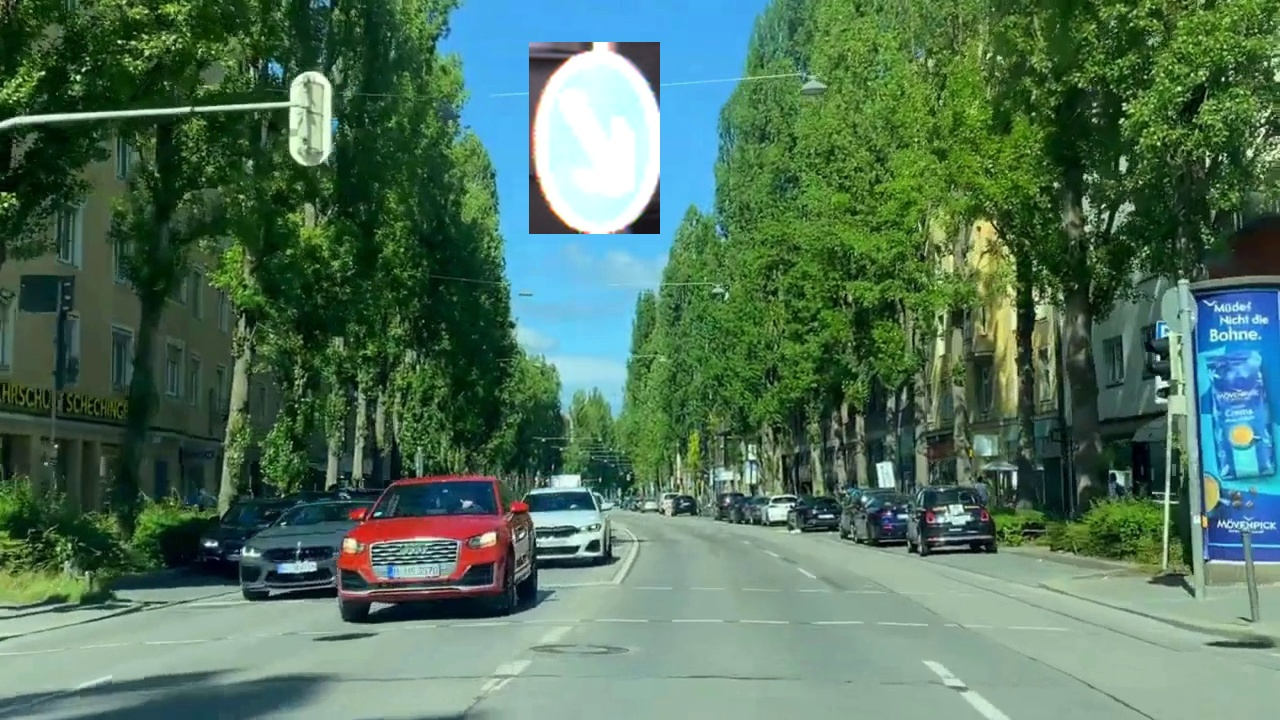Keep right: (529, 42, 660, 234)
